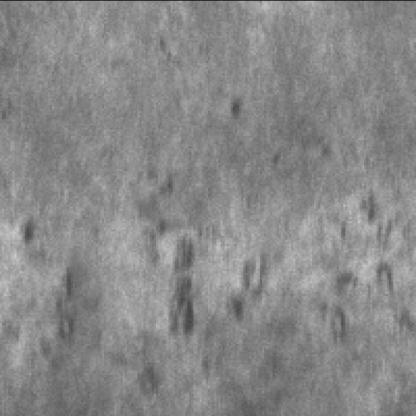rolled-in_scale: (189, 191, 408, 341), (27, 235, 198, 370), (13, 223, 82, 376)
